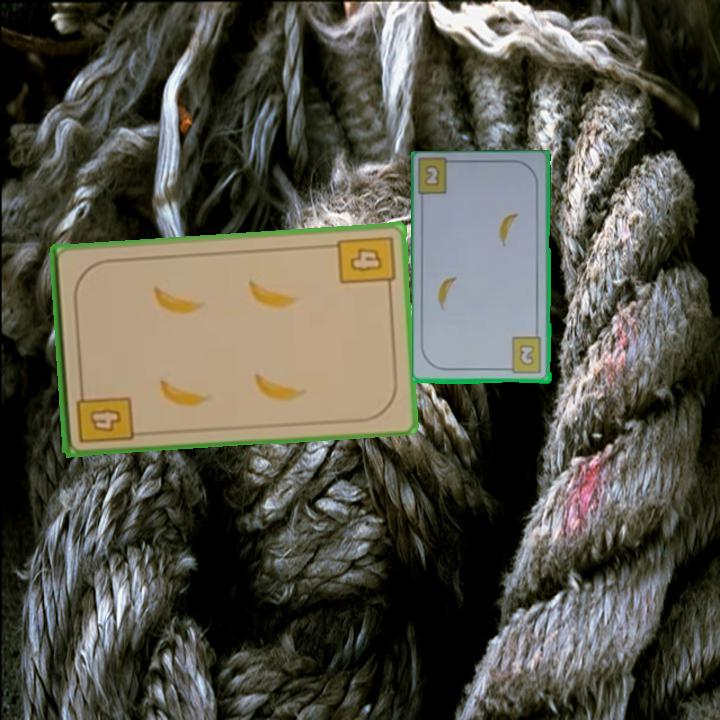2b: (502, 334, 545, 376), (421, 161, 442, 189)
4b: (334, 232, 398, 295), (72, 382, 135, 446)
